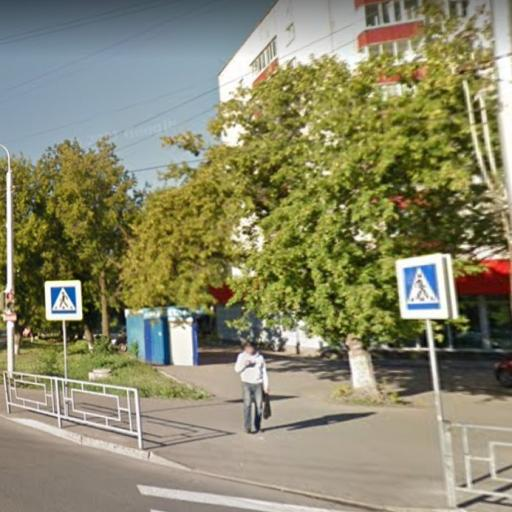traffic_sign: (394, 253, 455, 324), (42, 278, 86, 325)
